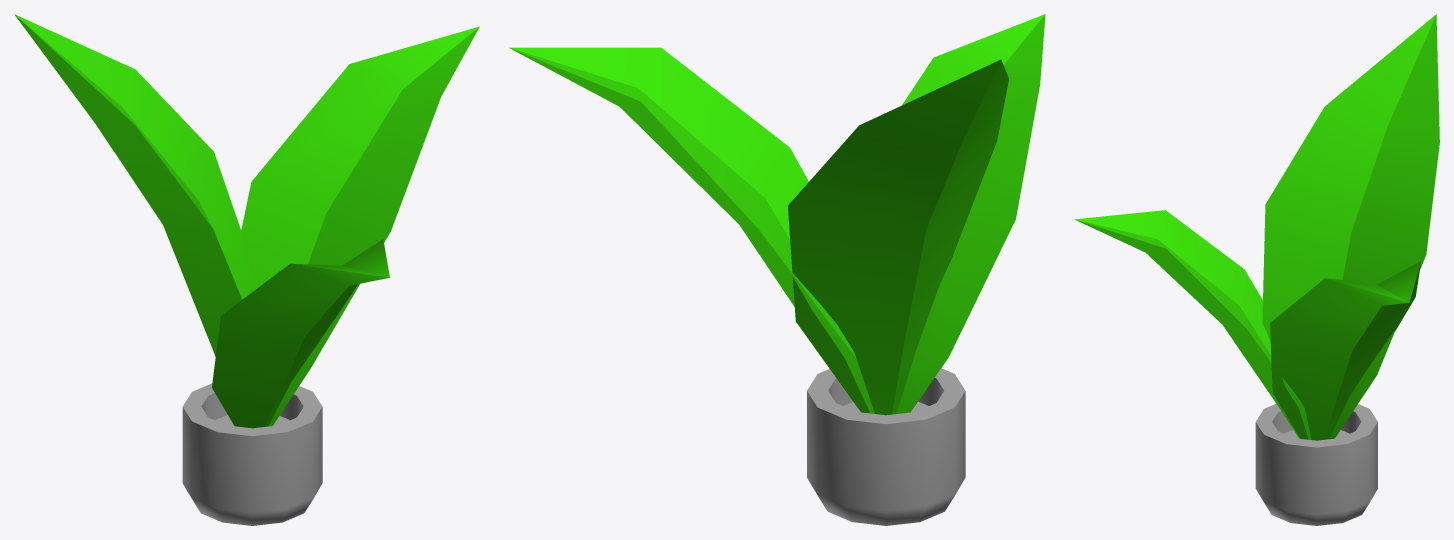
Rendered from flower.fbx.
3 renders of one model, left to right at view 1: azimuth 30°, elevation 25°; view 2: azimuth 150°, elevation 25°; view 3: azimuth 270°, elevation 25°, orthographic. The views are drawn at different scales.
Visible parts, largest first — view 1: flower; view 2: flower; view 3: flower.
Boxes of the visible parts, x1=… form: flower: x1=14, y1=14, x2=479, y2=525; flower: x1=509, y1=14, x2=1045, y2=525; flower: x1=1074, y1=14, x2=1439, y2=525.
Size of the model in its own units: 178 by 183 by 143.
